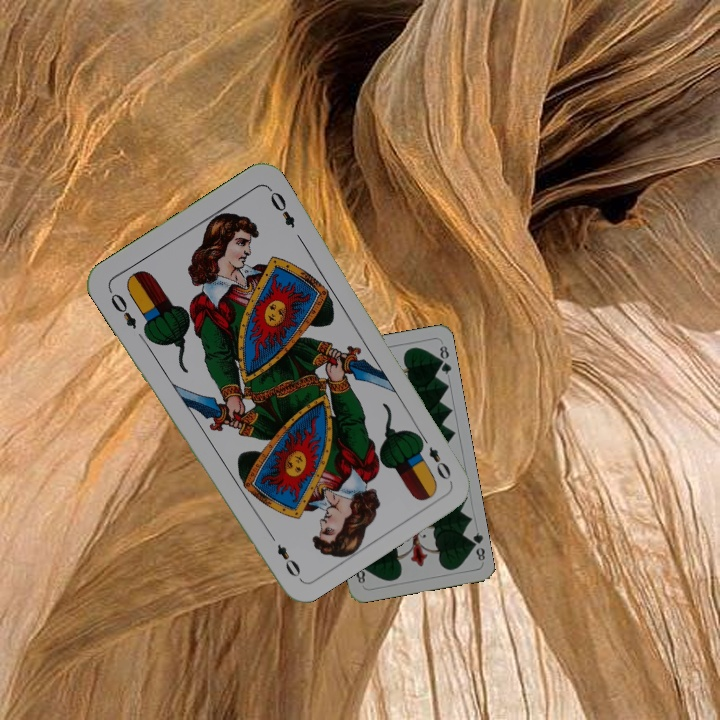EO: (415, 430, 454, 483), (104, 285, 139, 332)
G8: (465, 528, 488, 563)
